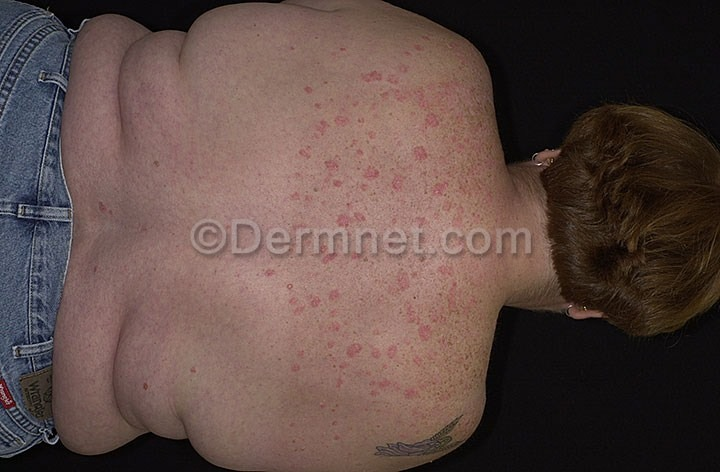Psoriasis: (291, 43, 480, 396)
